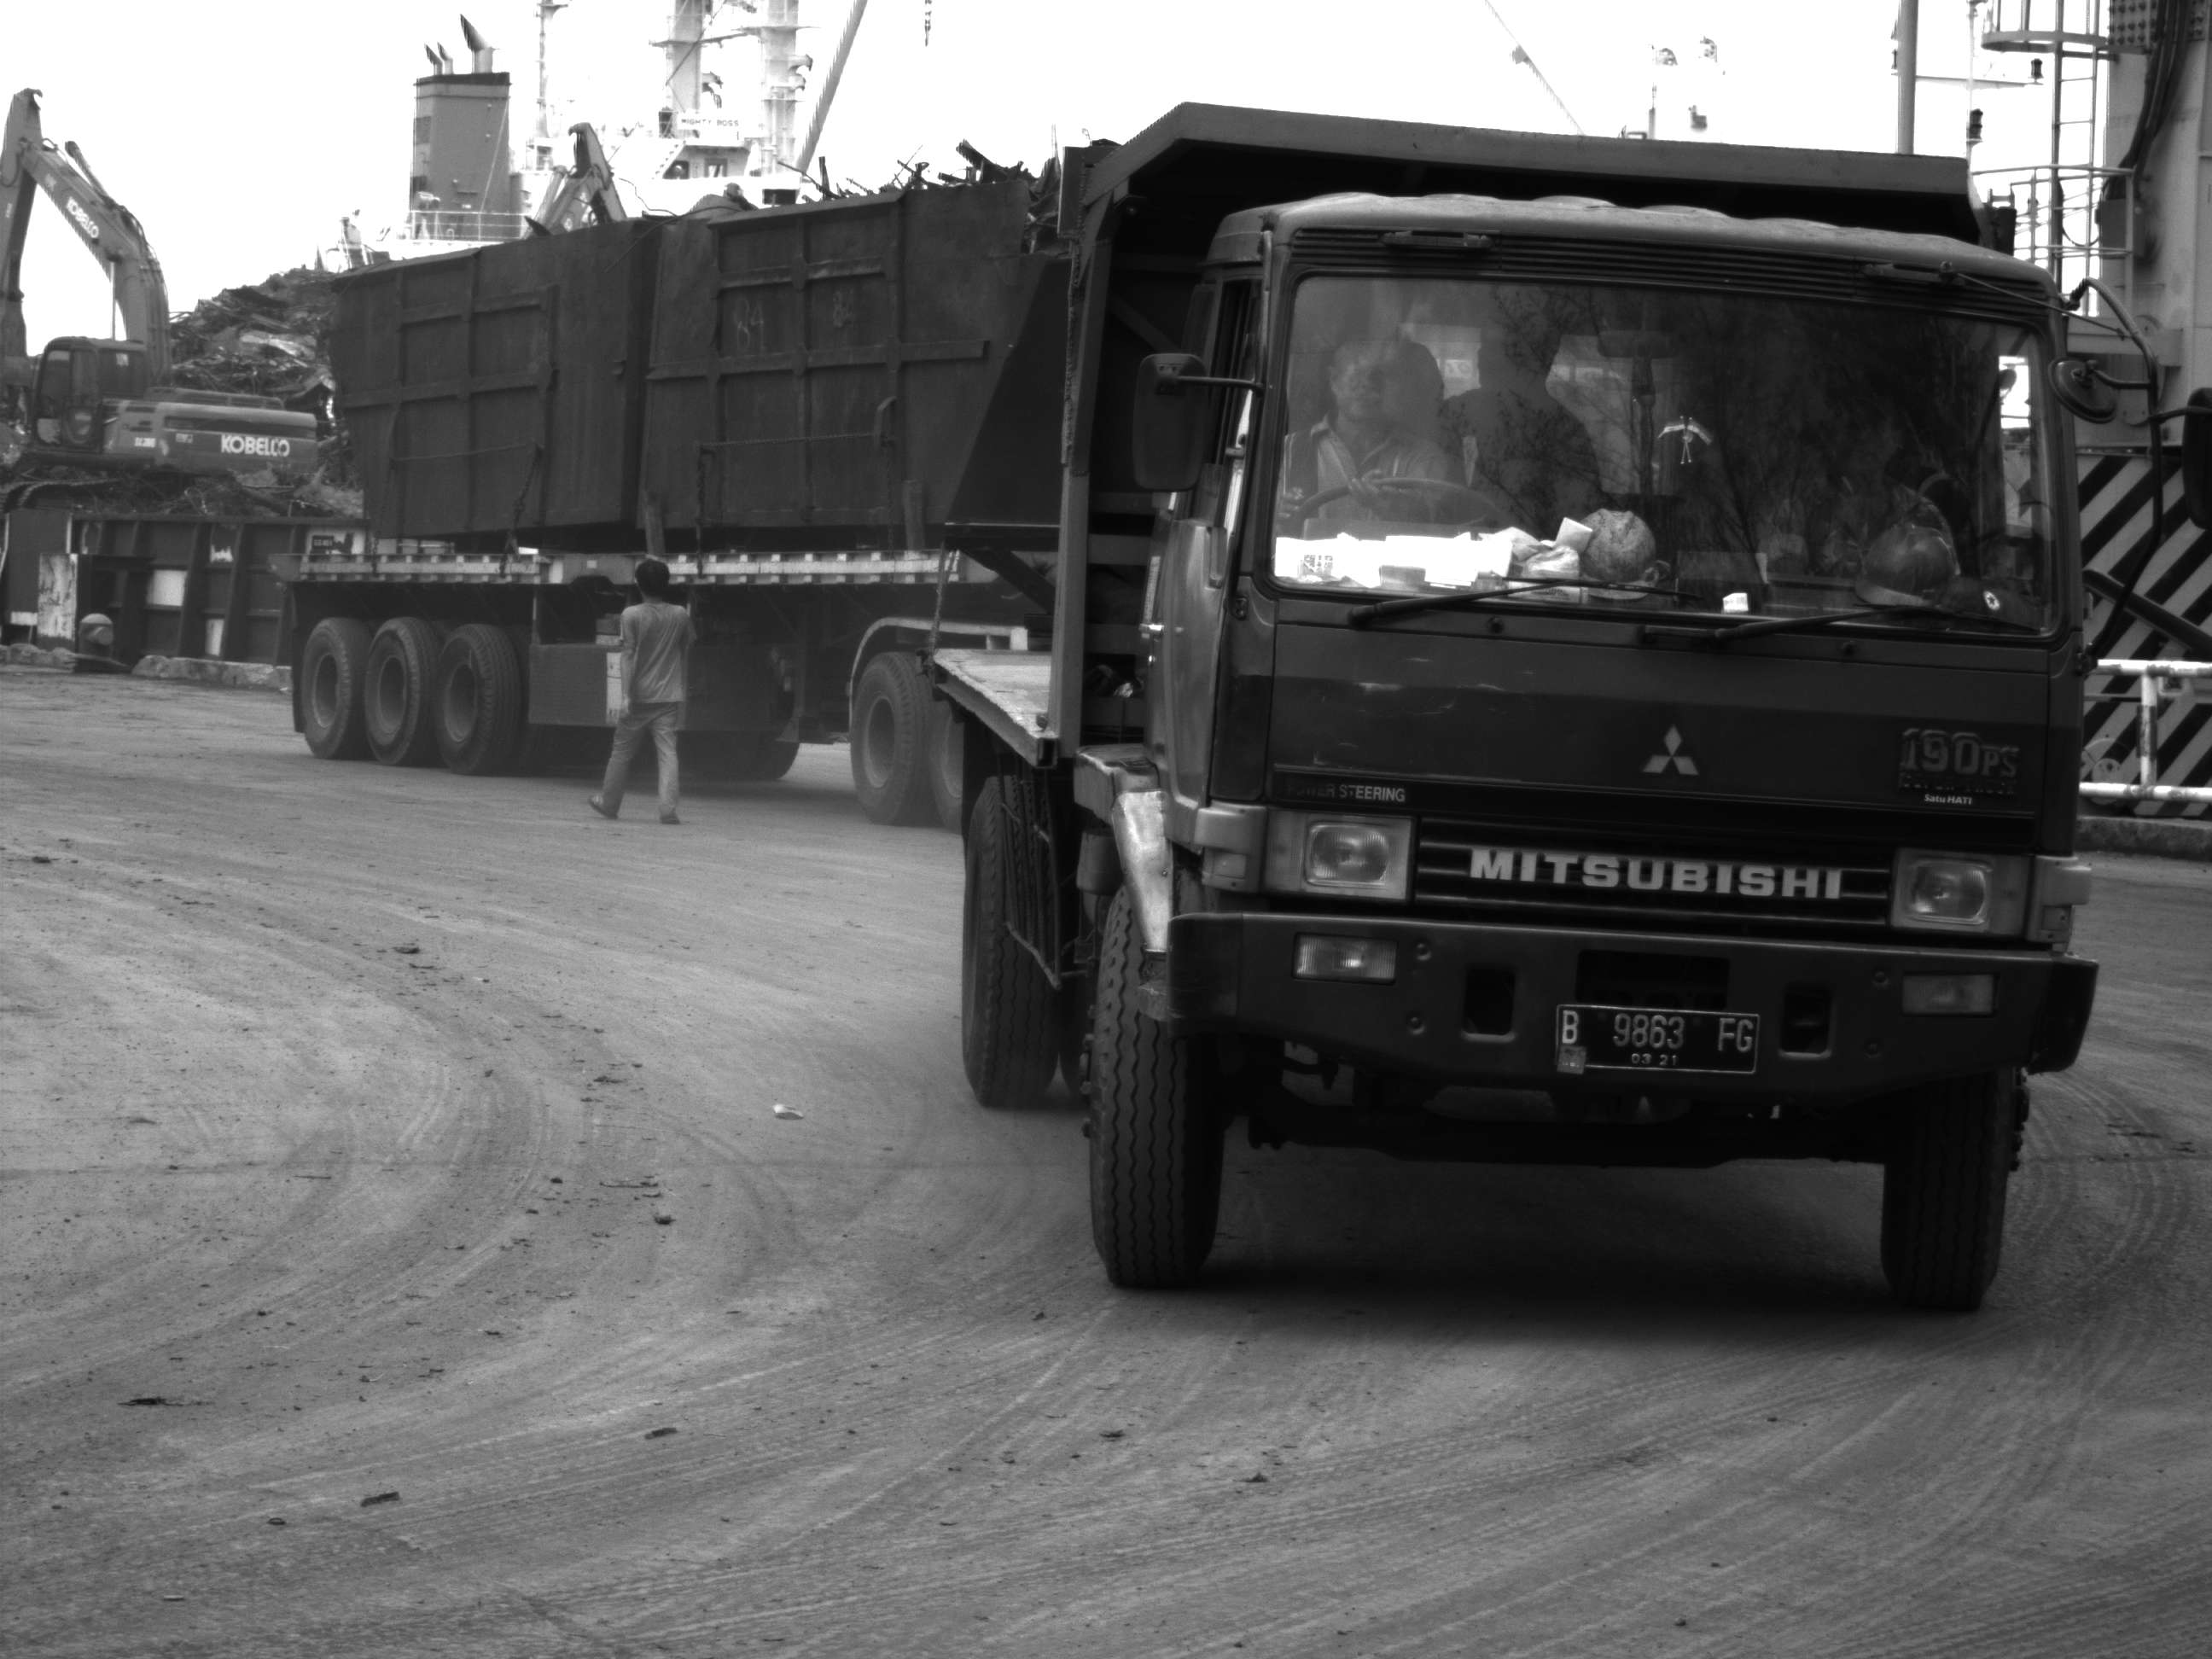number_plate: (1554, 999, 1769, 1067)
person: (589, 550, 724, 843)
truck_frontside: (1009, 112, 2168, 1454)
truck_side: (267, 153, 934, 763)
